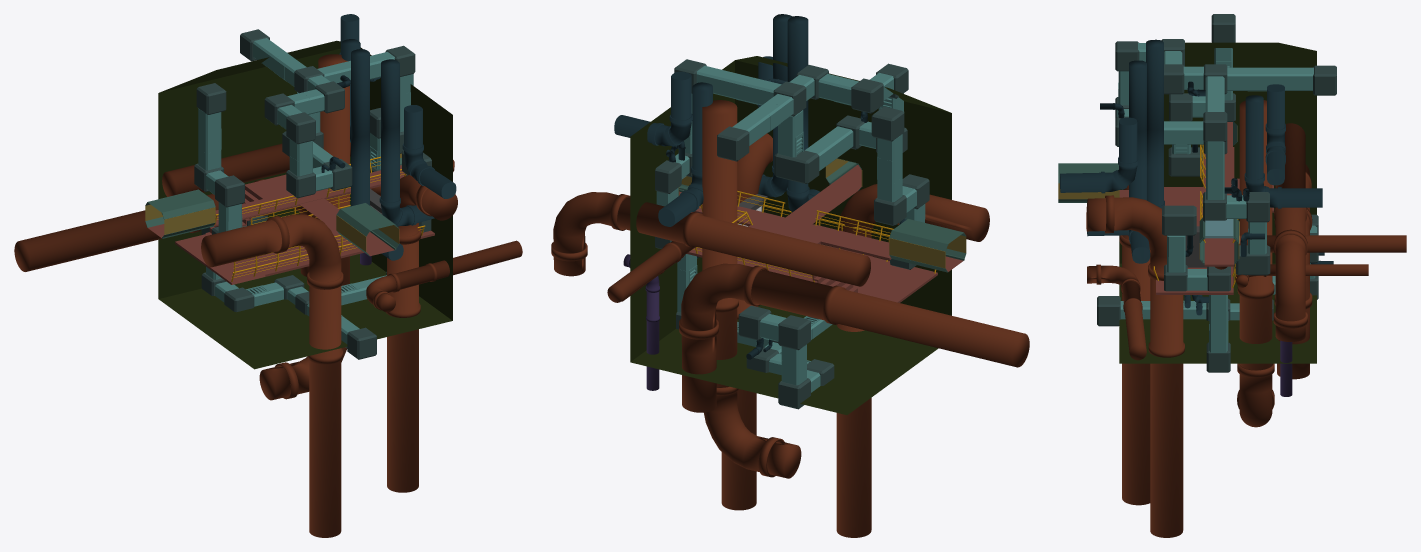
Rendered from engine roomblend.fbx.
The picture shows the model from 3 angles, left to right: view 1: azimuth 30°, elevation 25°; view 2: azimuth 150°, elevation 25°; view 3: azimuth 270°, elevation 25°; orthographic projection. The views are drawn at different scales.
Parts seen in each view (by area): view 1: engine room, Cylinder.054, Cylinder.004, Cylinder.053, Cylinder.052, Cube.008, Cube.101, Cylinder.005, engine connector.002, engine room conector2.002, engine connector.001, Cylinder.051 (+9 smaller); view 2: engine room, Cylinder.053, Cylinder.051, Cylinder.052, Cylinder.054, Cylinder.004, engine connector.001, engine room conector2, engine room conector2.002, Cube.005, Cube.006, engine connector.002 (+17 smaller); view 3: Cylinder.004, engine room, Cylinder.051, Cylinder.052, Cylinder.054, Cube.101, Cube.006, Cube.008, Cube.007, engine room conector2, Cylinder.005, Cylinder.001 (+33 smaller).
Part boxes in pixels (<box>): engine room: <box>158,40,452,369</box>; Cylinder.054: <box>201,214,343,537</box>; Cylinder.004: <box>386,175,457,492</box>; Cylinder.053: <box>14,179,318,276</box>; Cylinder.052: <box>259,54,349,400</box>; Cube.008: <box>379,59,434,226</box>; Cube.101: <box>350,49,403,260</box>; Cylinder.005: <box>366,240,522,312</box>; engine connector.002: <box>299,198,399,256</box>; engine room conector2.002: <box>175,223,434,284</box>; engine connector.001: <box>145,189,298,238</box>; Cylinder.051: <box>162,142,454,196</box>; engine room: <box>630,56,951,414</box>; Cylinder.053: <box>679,263,1029,412</box>; Cylinder.051: <box>551,192,870,286</box>; Cylinder.052: <box>702,100,801,478</box>; Cylinder.054: <box>836,184,989,537</box>; Cylinder.004: <box>721,133,772,510</box>; engine connector.001: <box>814,219,966,272</box>; engine room conector2: <box>678,176,891,260</box>; engine room conector2.002: <box>686,244,937,302</box>; Cube.005: <box>614,71,692,146</box>; Cube.006: <box>658,82,712,226</box>; engine connector.002: <box>786,158,862,223</box>; Cylinder.004: <box>1086,195,1184,537</box>; engine room: <box>1119,42,1316,363</box>; Cylinder.051: <box>1273,123,1307,341</box>; Cylinder.052: <box>1237,100,1274,427</box>; Cylinder.054: <box>1119,185,1150,505</box>; Cube.101: <box>1087,39,1164,236</box>; Cube.006: <box>1244,95,1322,208</box>; Cube.008: <box>1128,60,1150,263</box>; Cube.007: <box>1060,117,1138,193</box>; engine room conector2: <box>1199,147,1273,266</box>; Cylinder.005: <box>1087,264,1146,360</box>; Cylinder.001: <box>1215,235,1406,269</box>.
Size of the model in its own units: 10059 by 10358 by 6862.
